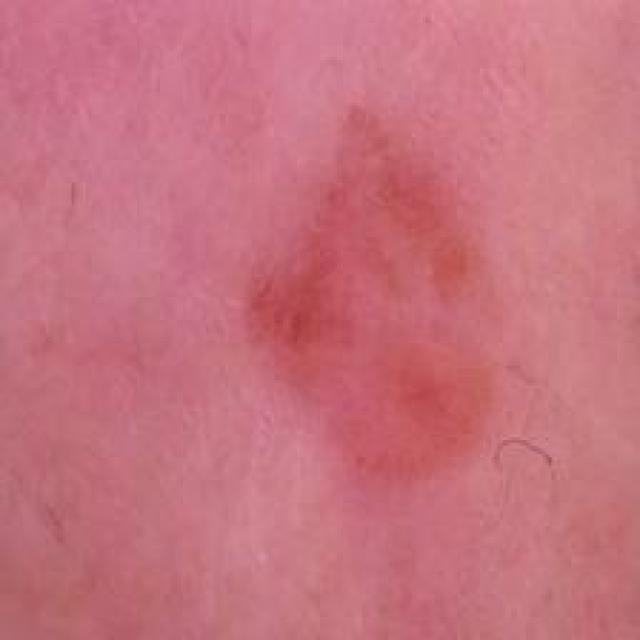Cancer: (251, 105, 514, 476)
